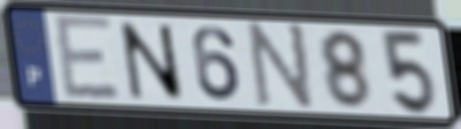5: (375, 27, 441, 118)
6: (190, 24, 243, 104)
8: (315, 27, 376, 111)
E: (50, 12, 124, 104)
N: (246, 20, 316, 115), (117, 19, 189, 103)
